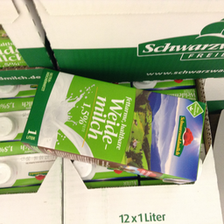milk: (15, 68, 212, 186)
